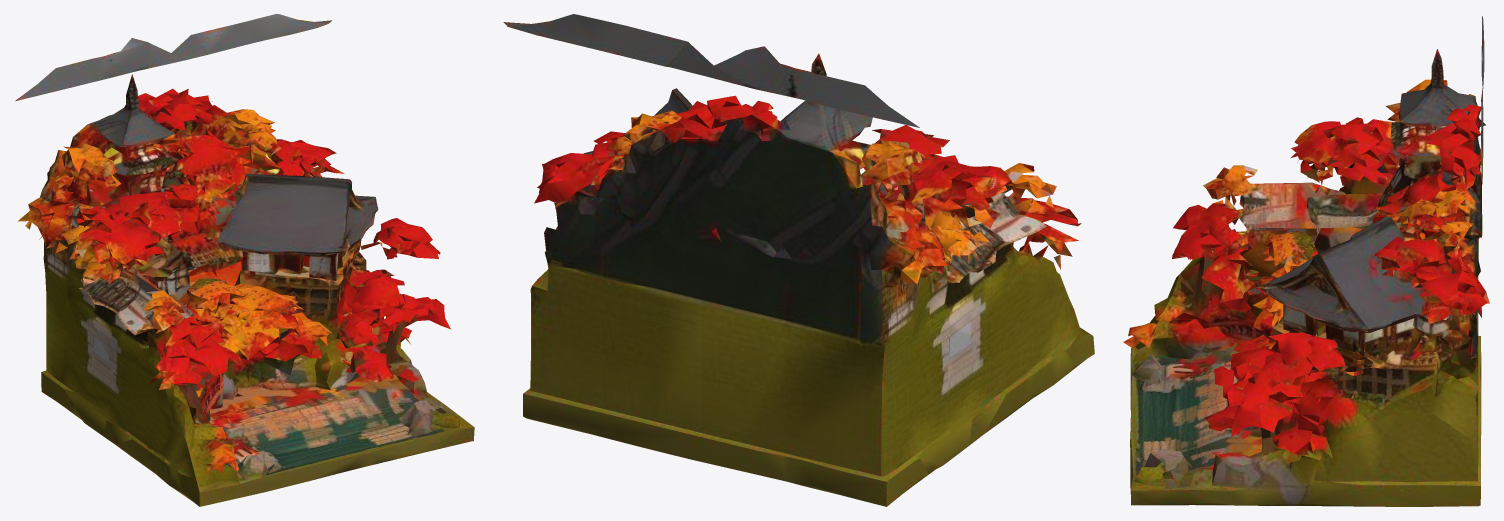
Rendered from eikando.glb.
The picture shows the model from 3 angles, left to right: view 1: azimuth 30°, elevation 25°; view 2: azimuth 150°, elevation 25°; view 3: azimuth 270°, elevation 25°; orthographic projection. The views are drawn at different scales.
Visible parts, largest first — view 1: logan-textured.obj; view 2: logan-textured.obj; view 3: logan-textured.obj.
Part boxes in pixels (x1,y1,x2,y2): logan-textured.obj: (15,14,474,506); logan-textured.obj: (503,14,1094,506); logan-textured.obj: (1123,16,1489,506).
Size of the model in its own units: 1 by 0.9371 by 0.8537.
1 material, 1 textured.
